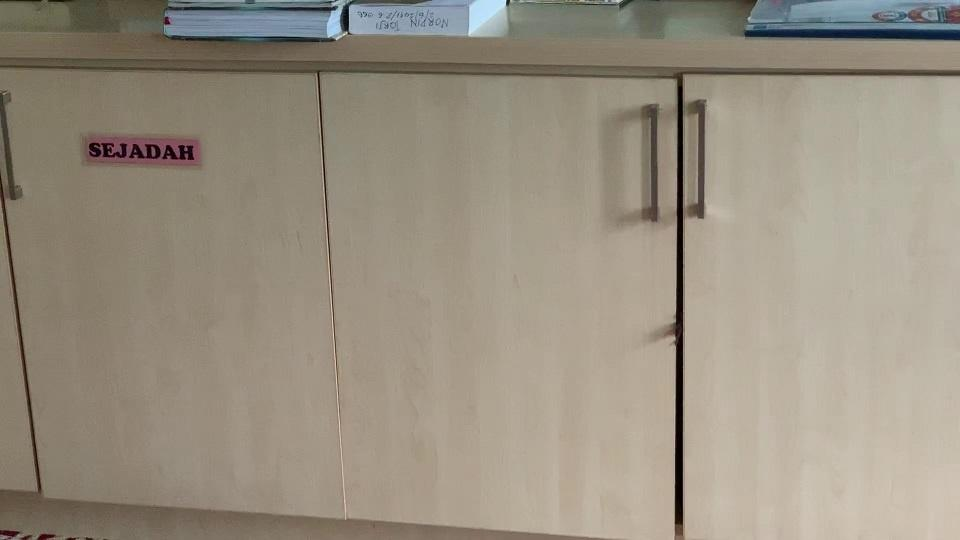cabinet_door: (340, 73, 677, 537), (7, 72, 333, 512), (680, 73, 960, 540)
handle: (634, 100, 669, 223), (687, 97, 719, 219), (0, 88, 22, 200)
